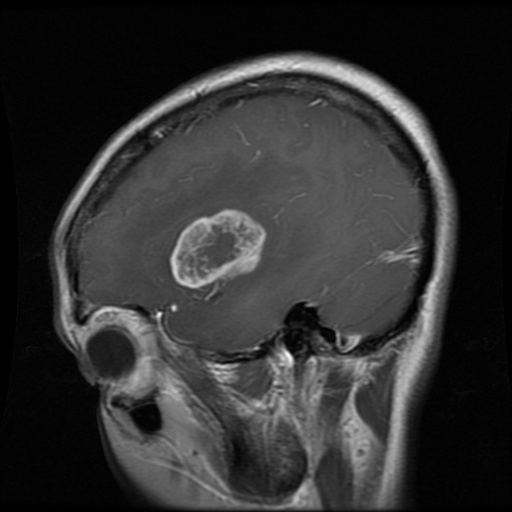glioma: (170, 209, 268, 288)
